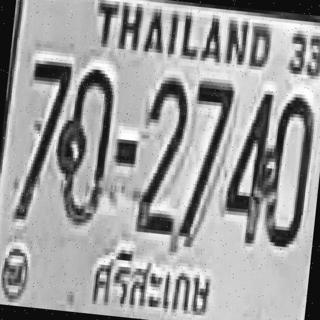N00: (52, 63, 116, 227), (259, 92, 316, 248)
N02: (133, 74, 190, 234)
N04: (220, 84, 276, 244)
N07: (13, 56, 72, 223), (178, 76, 234, 243), (181, 78, 234, 235)
P63: (86, 240, 215, 320)
